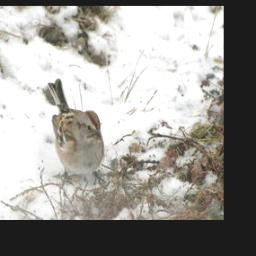Sparrow: (43, 76, 109, 187)
